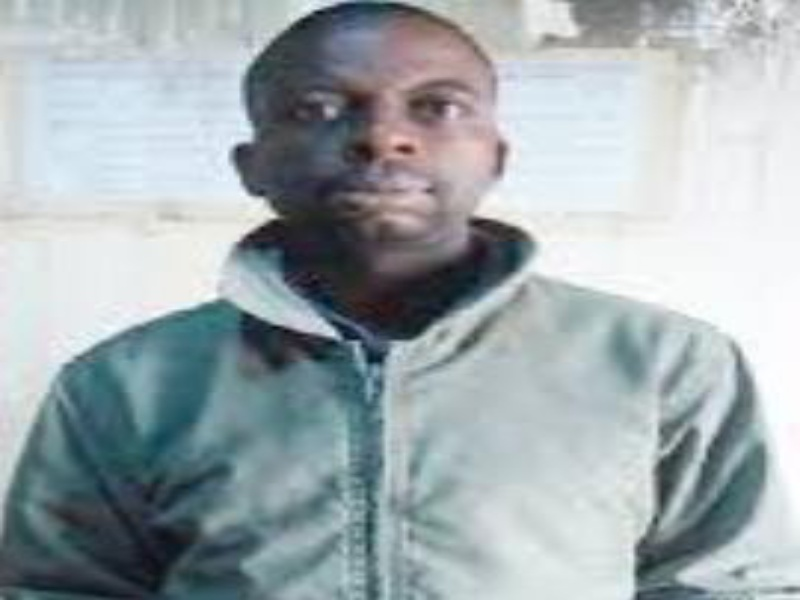TsisyArotava: (222, 9, 524, 277)
